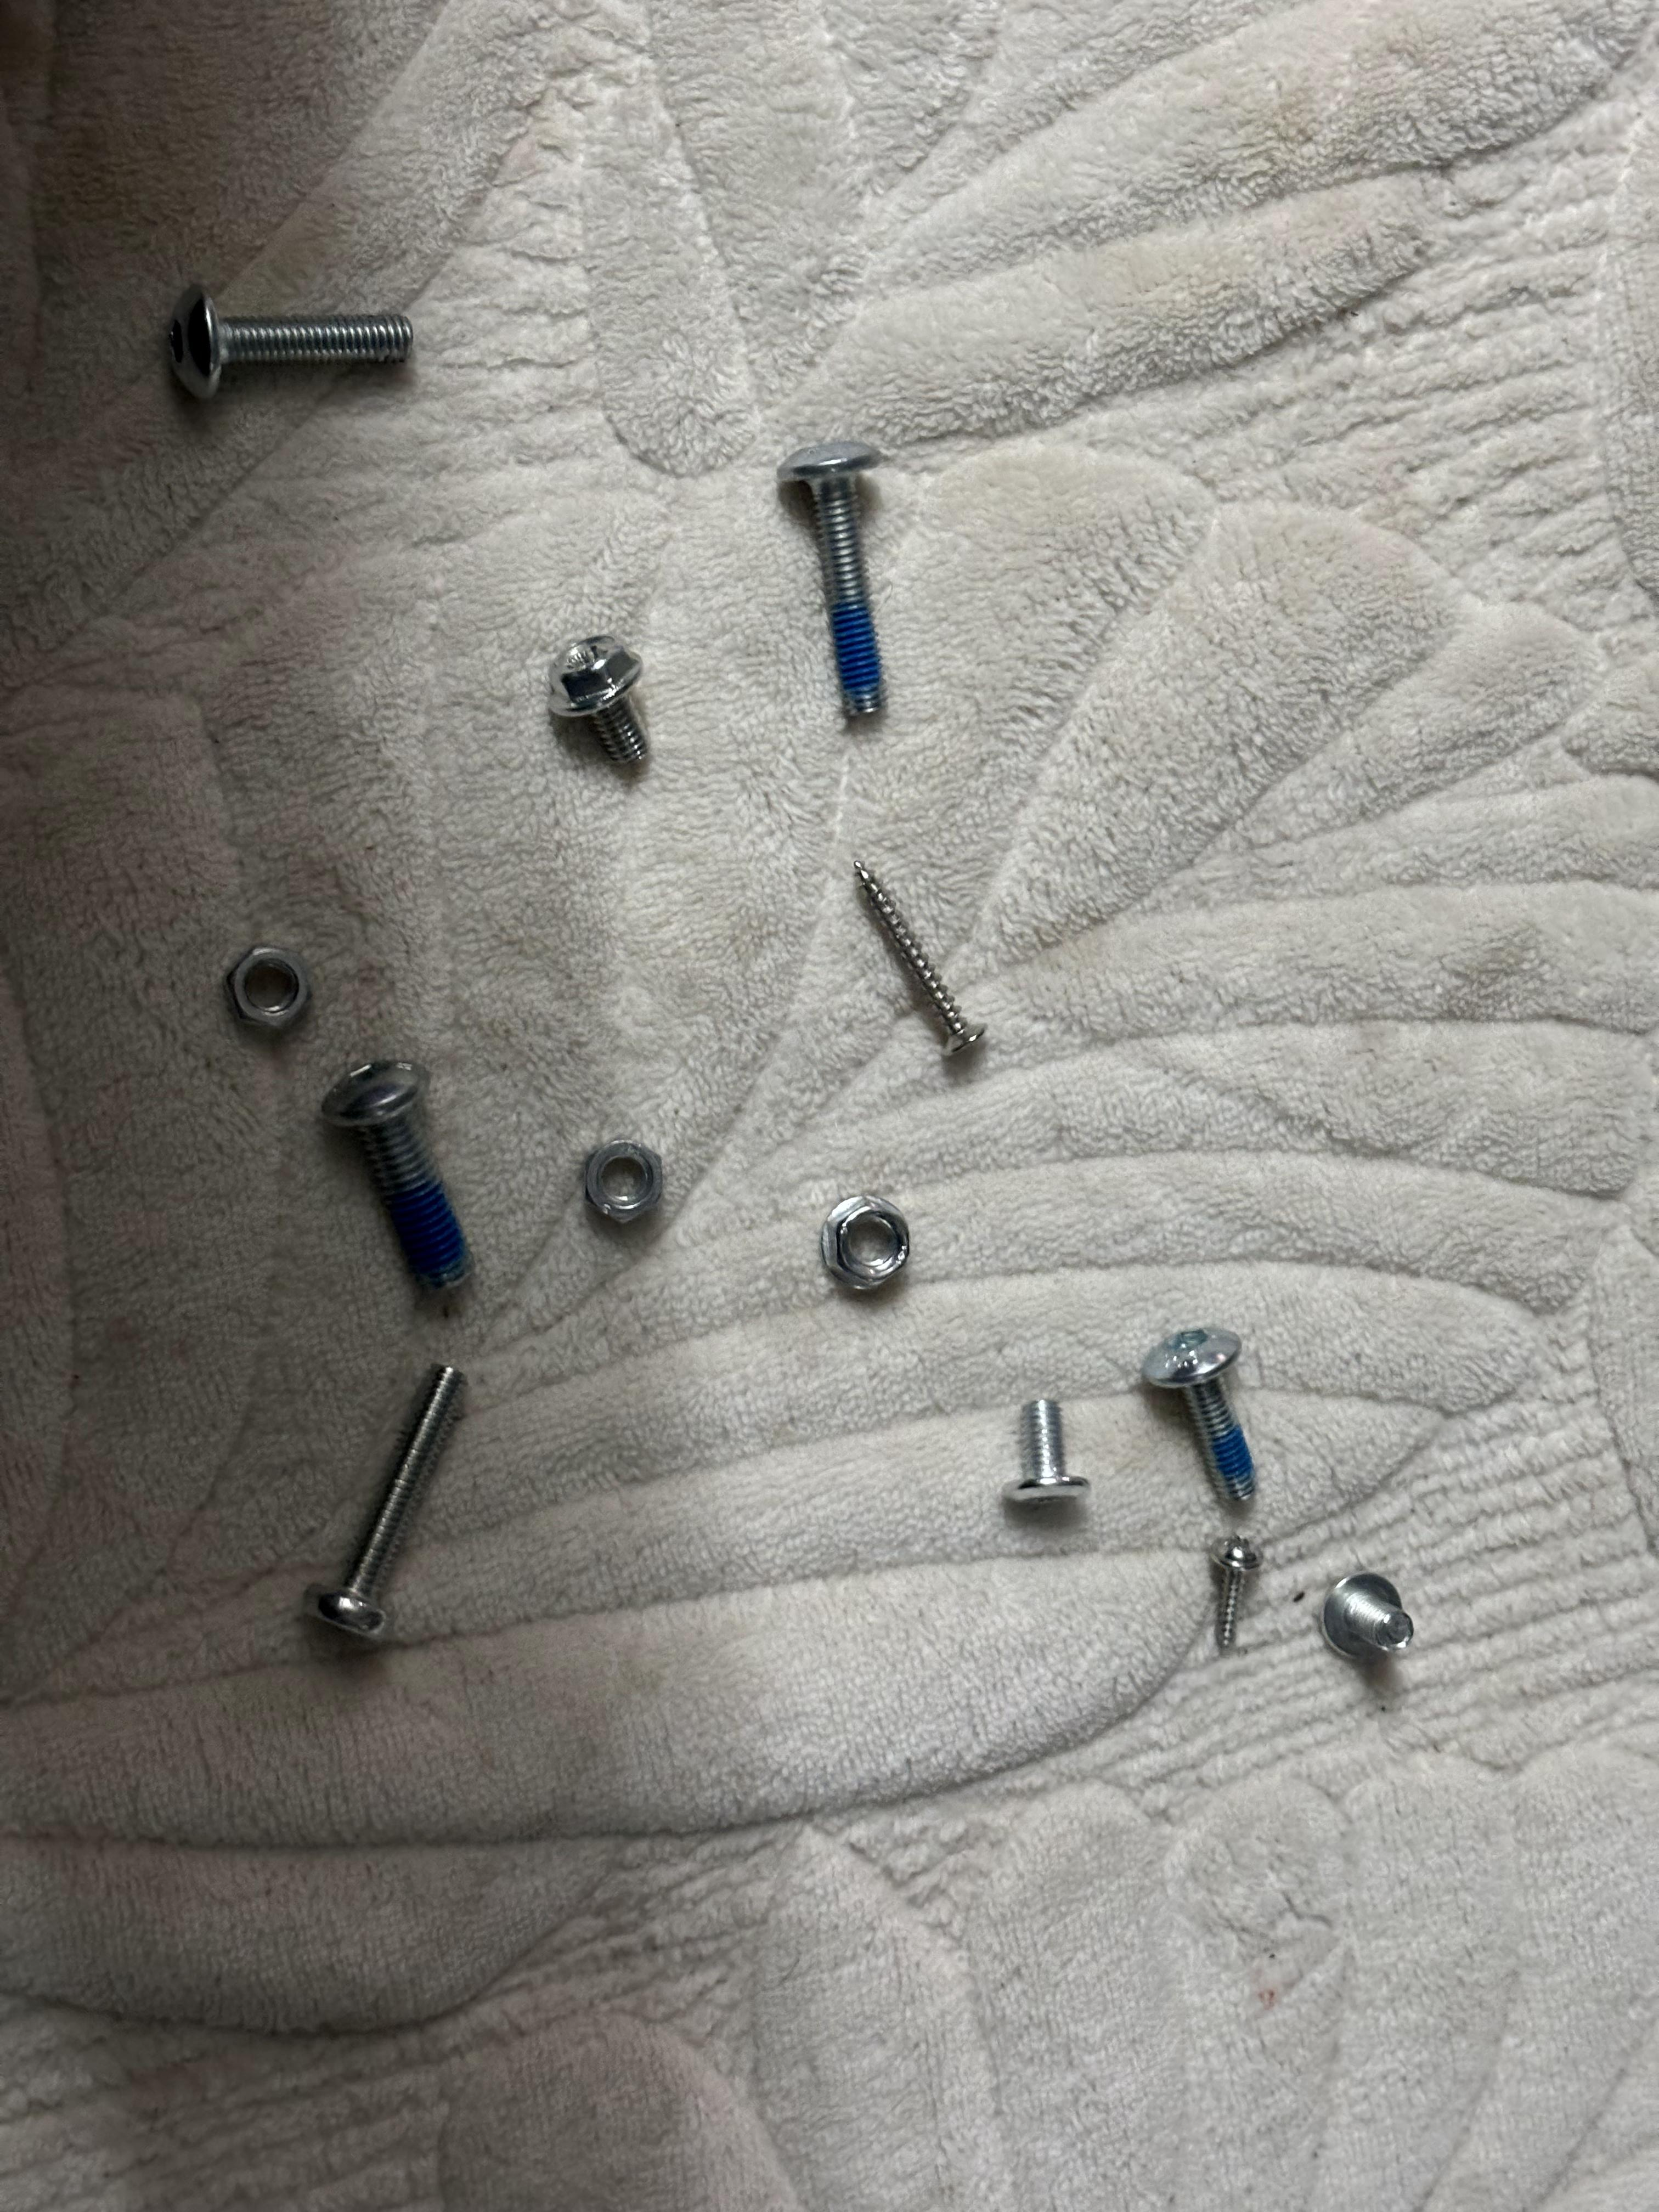Flange nut: (820, 1194, 911, 1292)
Hexagon nut: (222, 945, 312, 1038), (583, 1136, 666, 1226)
Hexagon screw: (546, 634, 649, 769)
Round head screw: (298, 1358, 473, 1640), (318, 1056, 477, 1300), (775, 438, 884, 721), (165, 283, 413, 403), (850, 856, 990, 1058), (1139, 1326, 1256, 1504), (998, 1398, 1093, 1505), (1321, 1570, 1413, 1663), (1207, 1532, 1264, 1652)
